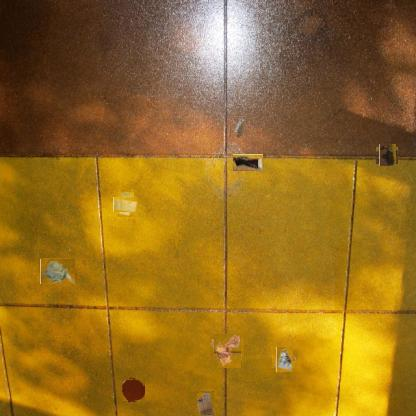dirty: (212, 336, 243, 366), (40, 258, 75, 284), (233, 154, 263, 171), (274, 349, 296, 370), (196, 392, 214, 416), (116, 194, 136, 215), (230, 116, 246, 138)
liquid: (121, 378, 144, 402), (378, 146, 397, 165)
